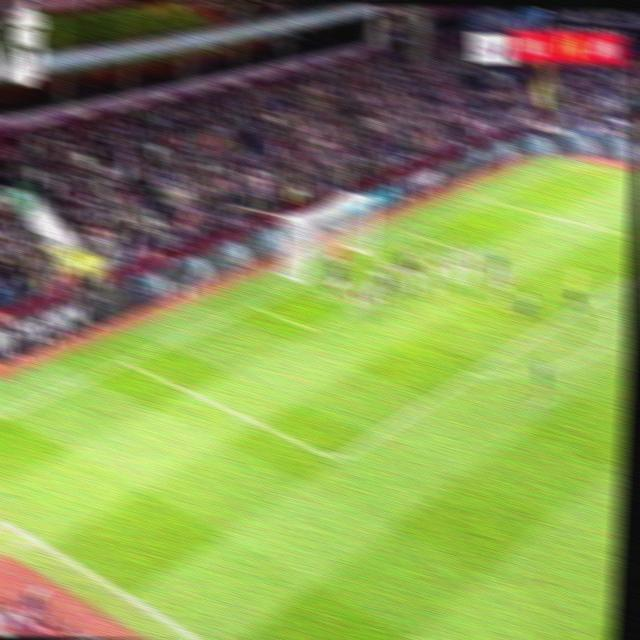bigarea_bottom_inner: (326, 452, 344, 469)
bigarea_top_outter: (482, 194, 497, 209)
bottom_arc_area_intersection: (465, 368, 479, 381)
corner: (564, 158, 580, 171)
smallarea_bottom_inner: (305, 322, 321, 337)
smallarea_bottom_outter: (245, 300, 259, 311)
smallarea_top_inner: (115, 354, 131, 372), (463, 248, 475, 258)
smallarea_top_outter: (406, 229, 422, 243)
top_arc_area_intersection: (589, 294, 603, 304)
